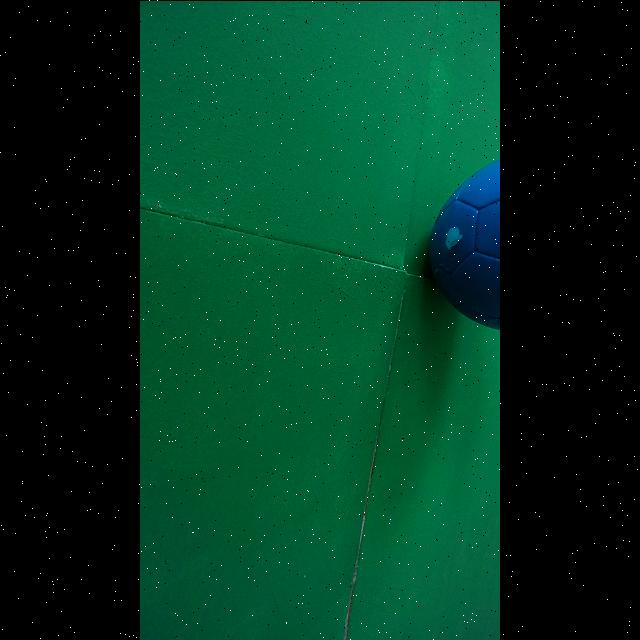B: (430, 160, 500, 328)
